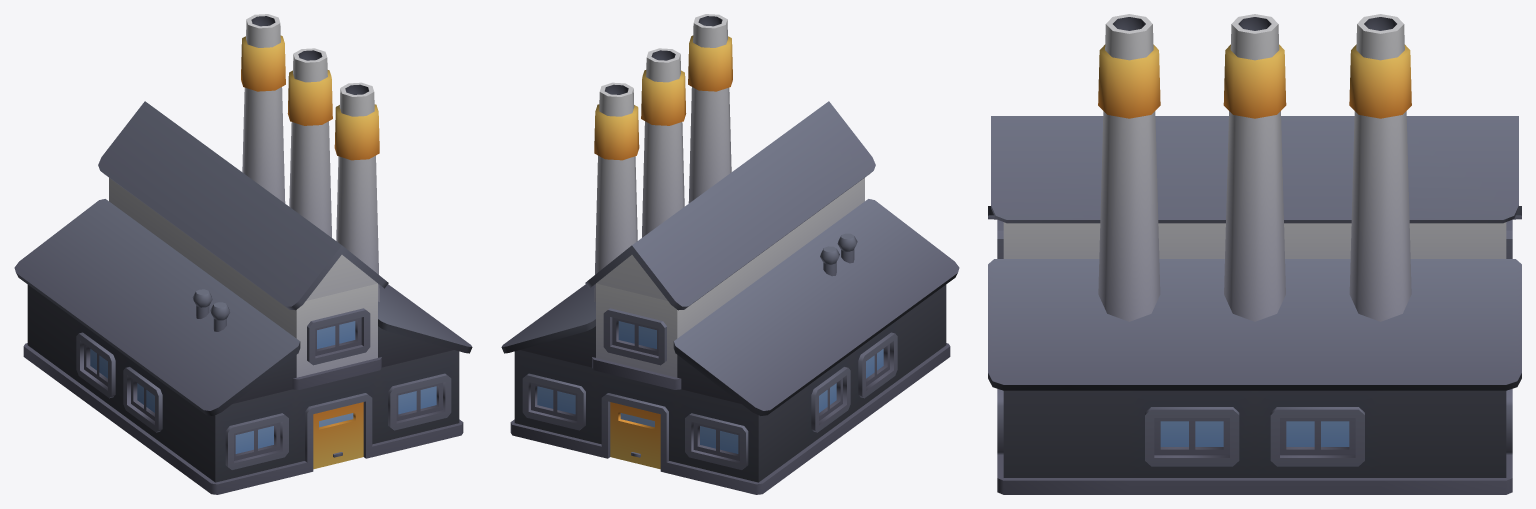
File: termeletrica.glb
3 renders of one model, left to right at view 1: azimuth 30°, elevation 25°; view 2: azimuth 150°, elevation 25°; view 3: azimuth 270°, elevation 25°, orthographic. The views are drawn at different scales.
Visible parts, largest first — view 1: modelo; view 2: modelo; view 3: modelo.
Boxes of the visible parts, x1=… form: modelo: x1=14, y1=14, x2=472, y2=494; modelo: x1=501, y1=14, x2=959, y2=494; modelo: x1=988, y1=14, x2=1521, y2=494.
Size of the model in its own units: 2.98 by 3.44 by 3.85.
